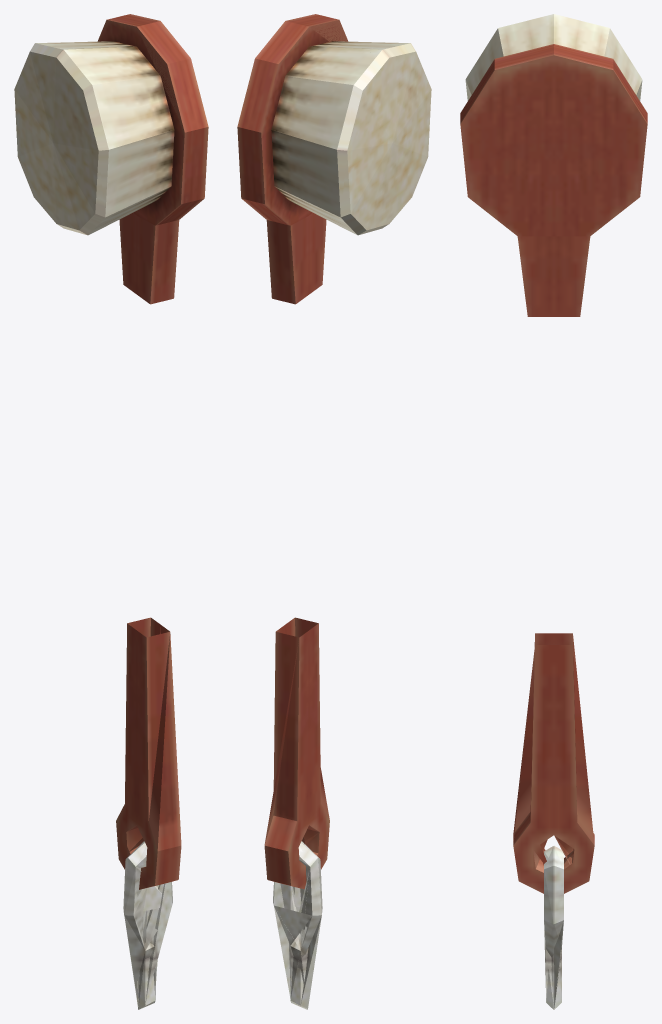
File: Bat_bathBrush.obj
3 views of the same model, side by side, from view 1: azimuth 30°, elevation 25°; view 2: azimuth 150°, elevation 25°; view 3: azimuth 270°, elevation 25° (orthographic). The views are drawn at different scales.
Visible parts, largest first — view 1: Bat_bathBrush_tri; view 2: Bat_bathBrush_tri; view 3: Bat_bathBrush_tri.
Boxes of the visible parts, left/top/right/bottom form: Bat_bathBrush_tri: left=14, top=14, right=208, bottom=1009; Bat_bathBrush_tri: left=237, top=14, right=431, bottom=1009; Bat_bathBrush_tri: left=460, top=14, right=647, bottom=1009.
Size of the model in its own units: 0.0687 by 0.5392 by 0.0953.
1 material, 1 textured.
